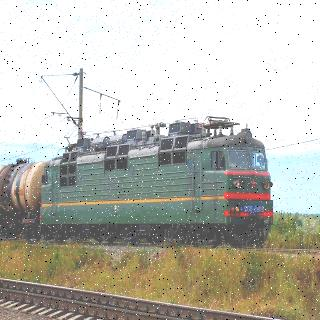poezd: (43, 132, 271, 238)
